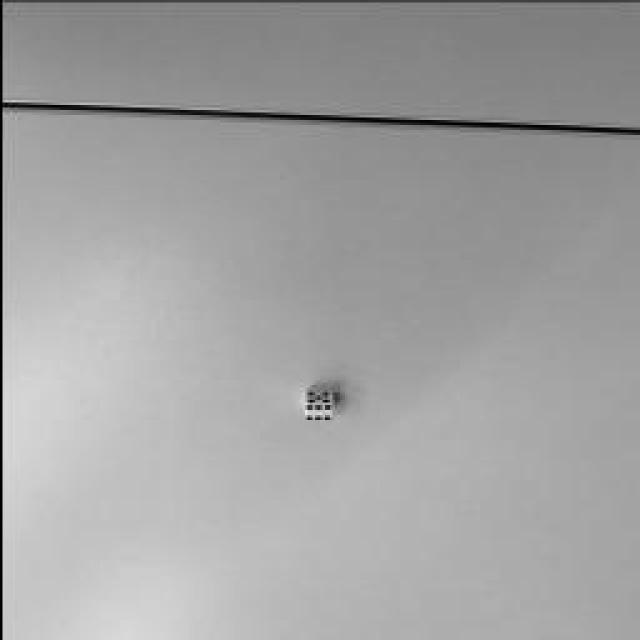dice_6: (301, 402, 331, 420)
